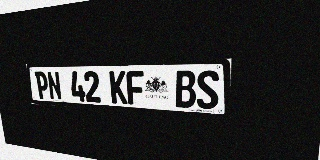2: (83, 71, 101, 103)
4: (69, 71, 86, 102)
B: (175, 70, 196, 108)
F: (126, 71, 145, 105)
K: (109, 71, 128, 104)
N: (47, 71, 62, 100)
P: (34, 71, 50, 100)
S: (196, 70, 219, 110)
